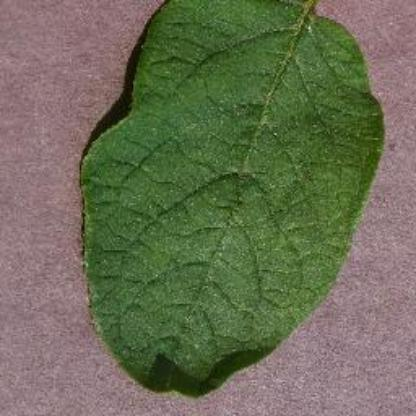Healthy-plant: (71, 0, 386, 398)
